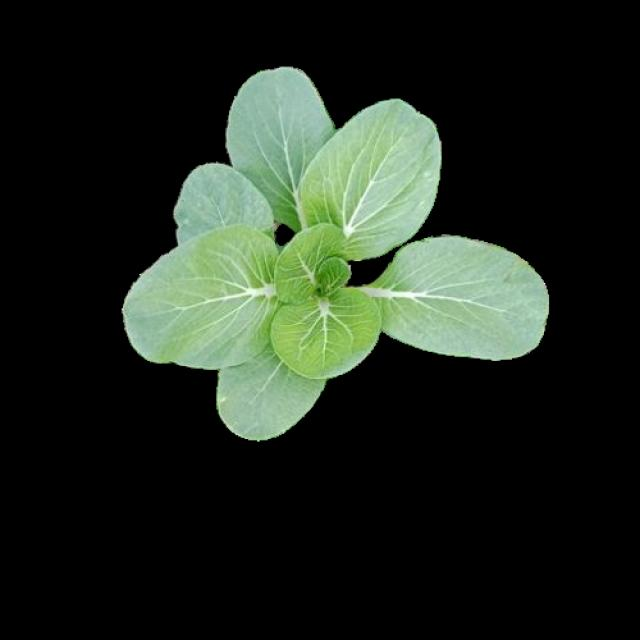healthy: (122, 66, 549, 437)
not-mature: (124, 68, 552, 439)
